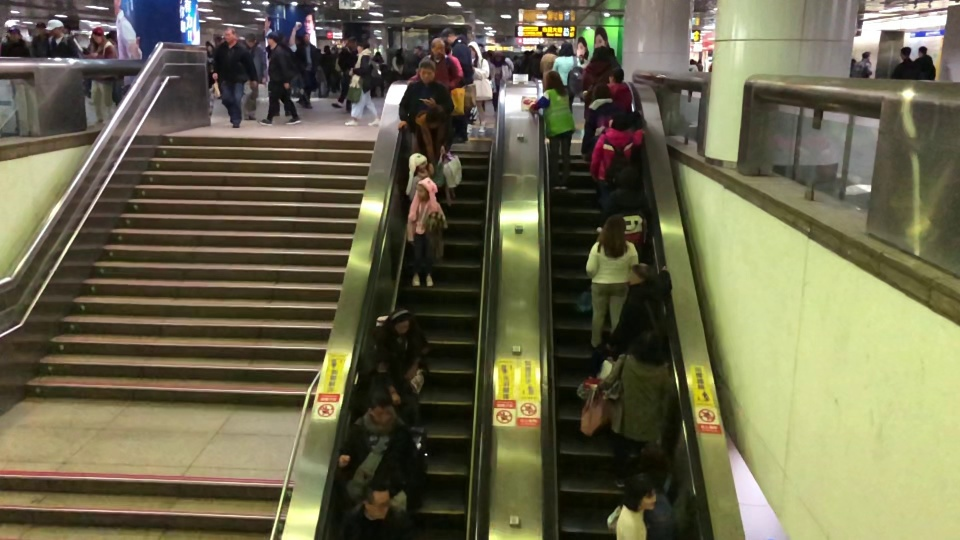person_head: (629, 328, 666, 369), (622, 471, 657, 511), (359, 480, 391, 522), (637, 445, 667, 479), (368, 386, 394, 425), (600, 214, 627, 242), (387, 308, 413, 334), (617, 164, 642, 189), (629, 260, 655, 284), (415, 177, 438, 203), (609, 109, 633, 131), (416, 58, 436, 83), (423, 106, 442, 130), (544, 69, 563, 91), (407, 153, 427, 172), (44, 19, 65, 37), (429, 37, 447, 58), (590, 45, 610, 63), (591, 82, 610, 100), (607, 66, 625, 84), (440, 27, 457, 45), (5, 26, 22, 41), (465, 41, 479, 59), (90, 27, 104, 44), (266, 30, 280, 47), (222, 27, 236, 43), (559, 42, 574, 56), (355, 40, 370, 53), (544, 43, 558, 56), (204, 38, 216, 53), (244, 32, 256, 47), (899, 45, 911, 60), (492, 50, 505, 63), (35, 21, 47, 35), (106, 30, 117, 44), (344, 38, 355, 51), (372, 51, 383, 63), (860, 50, 872, 61), (917, 45, 927, 58), (412, 46, 423, 56), (303, 31, 310, 44), (535, 43, 544, 53), (322, 44, 331, 53), (523, 49, 530, 59), (395, 47, 402, 56), (689, 58, 694, 65), (513, 55, 519, 60), (697, 58, 702, 64)
person_vbox: (600, 328, 681, 489), (337, 386, 428, 514), (584, 214, 640, 353), (367, 308, 430, 425), (520, 69, 576, 191), (604, 260, 672, 355), (590, 109, 645, 210), (601, 164, 654, 264), (339, 480, 417, 540), (212, 27, 258, 128), (405, 177, 445, 287), (397, 58, 454, 132), (440, 26, 475, 144), (258, 30, 301, 125), (637, 445, 680, 540), (579, 45, 614, 160), (81, 27, 118, 124), (343, 39, 381, 126), (580, 82, 622, 158), (406, 37, 465, 89), (413, 106, 454, 180), (615, 470, 658, 540), (465, 41, 492, 133), (241, 32, 267, 121), (295, 31, 321, 110), (552, 41, 580, 114), (487, 50, 513, 113), (338, 38, 357, 112), (45, 20, 79, 57), (607, 65, 633, 112), (405, 153, 430, 201), (106, 30, 121, 107), (0, 26, 31, 58), (891, 45, 919, 80), (204, 38, 216, 116), (913, 46, 936, 80), (539, 43, 559, 80), (370, 51, 386, 97), (31, 20, 49, 57), (320, 44, 332, 98), (389, 47, 405, 80), (687, 58, 698, 104), (531, 43, 544, 79), (856, 50, 872, 78), (521, 49, 533, 81), (412, 46, 423, 69), (512, 55, 521, 74), (695, 58, 704, 71)
